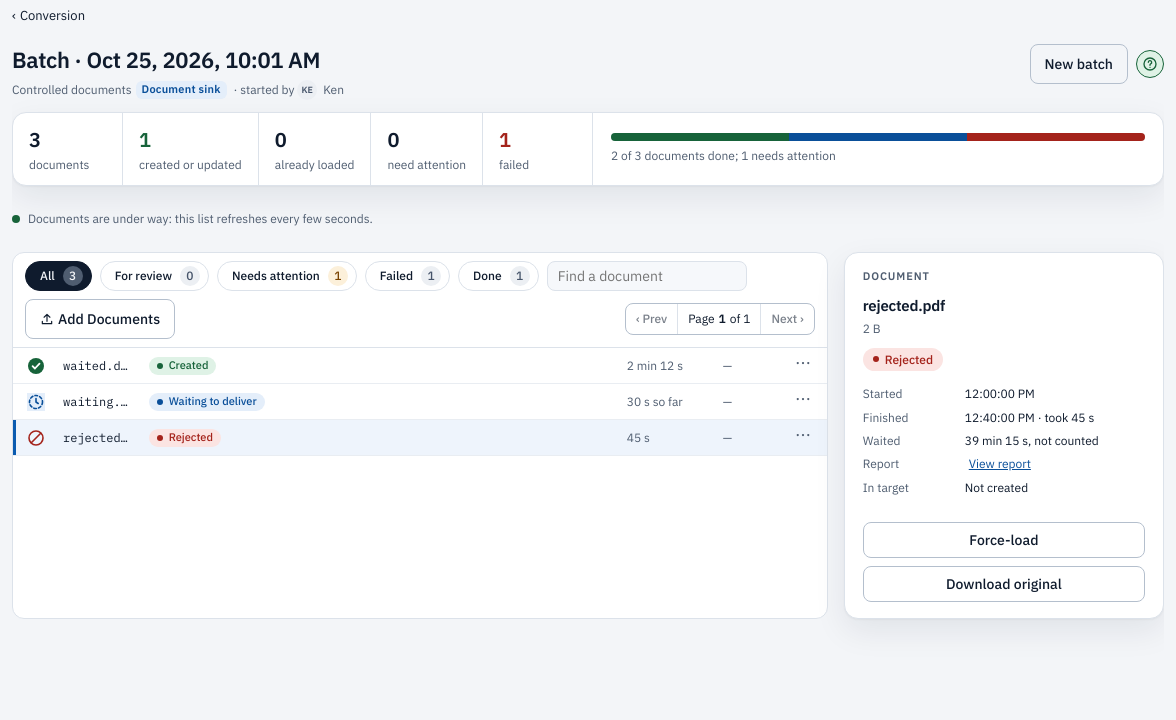
Test case: the Conversion tab: the batch view › leaves the waits for a lane or a review out of how long a document took
Check: the text "waited.docx" shows "2 min 12 s", box [627,358,683,373]
Click the button "waited.docx". click: [96, 365]
box: [63,357,129,374]
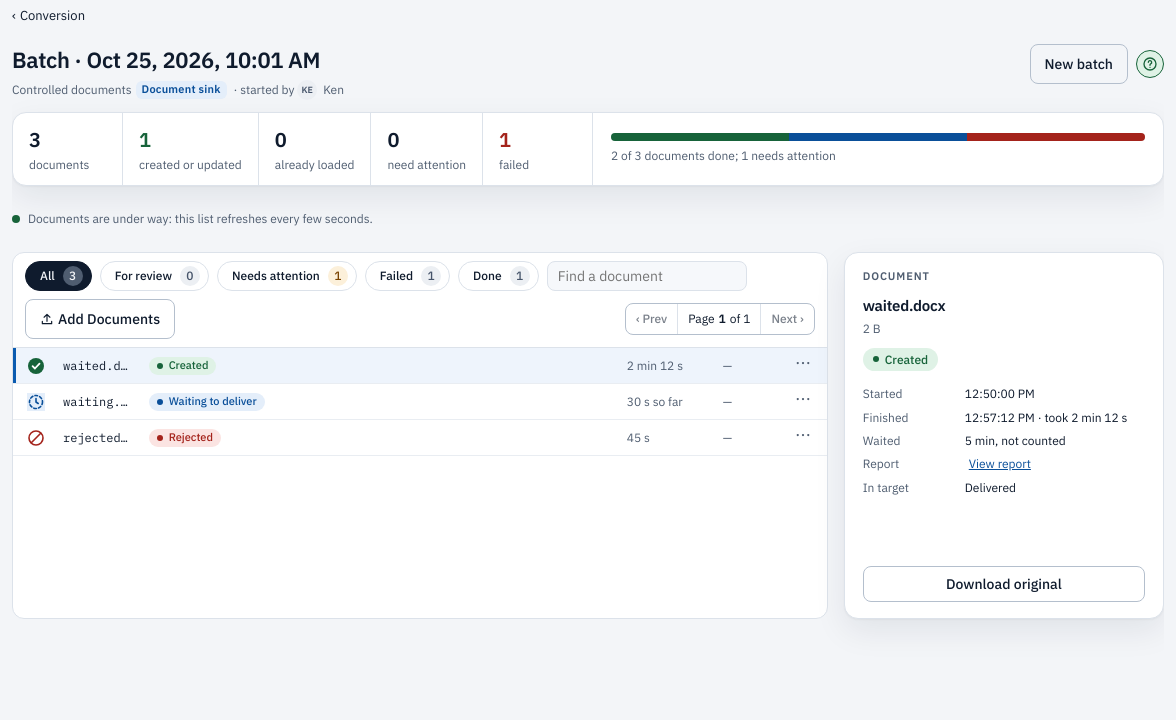
Check: the text "waiting.docx" shows "30 s so far", box [627,394,683,409]
Check: the text "12:57:12 PM · took 2 min 12 s" is shown, box [965,408,1145,426]
Check: the text "5 min, not counted" is shown, box [965,433,1066,448]
